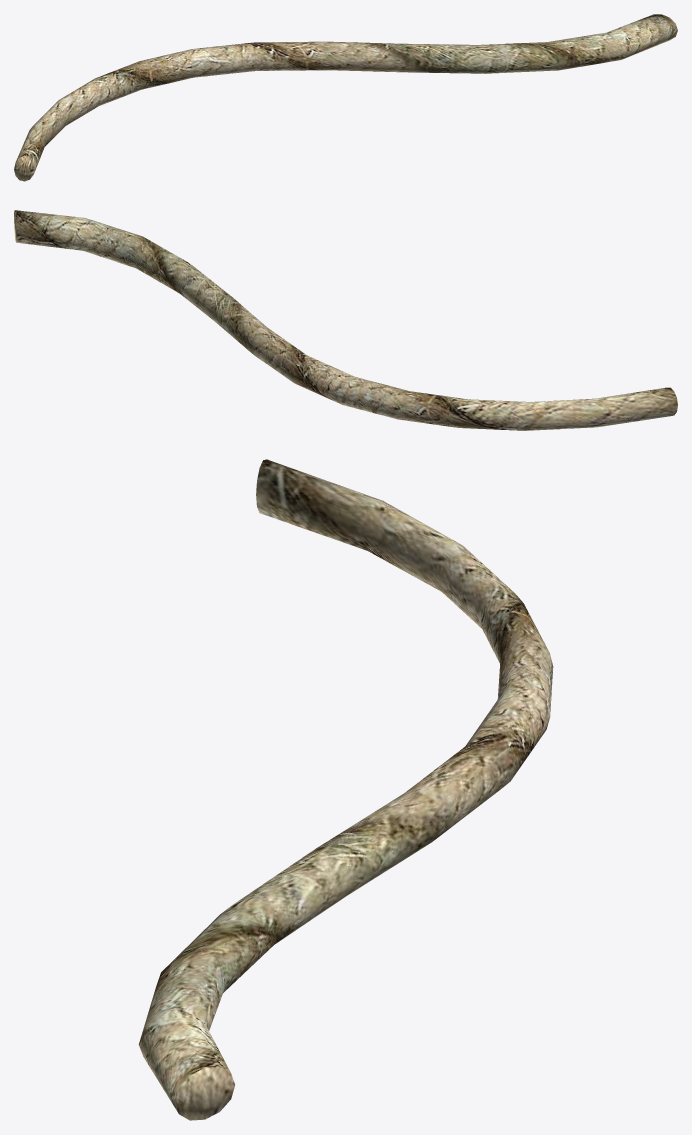
The model's file is ThickRope.fbx.
3 renders of one model, top to bottom at view 1: azimuth 30°, elevation 25°; view 2: azimuth 150°, elevation 25°; view 3: azimuth 270°, elevation 25°, orthographic. The views are drawn at different scales.
Parts seen in each view (by area): view 1: ThickRope; view 2: ThickRope; view 3: ThickRope.
Part boxes in pixels (x1,y1,x2,y2): ThickRope: [14, 14, 677, 181]; ThickRope: [14, 210, 677, 430]; ThickRope: [138, 459, 553, 1120].
Bounding box in the file's own units: 317 × 12.79 × 88.83.
Materials: 1 (1 with a texture image).
